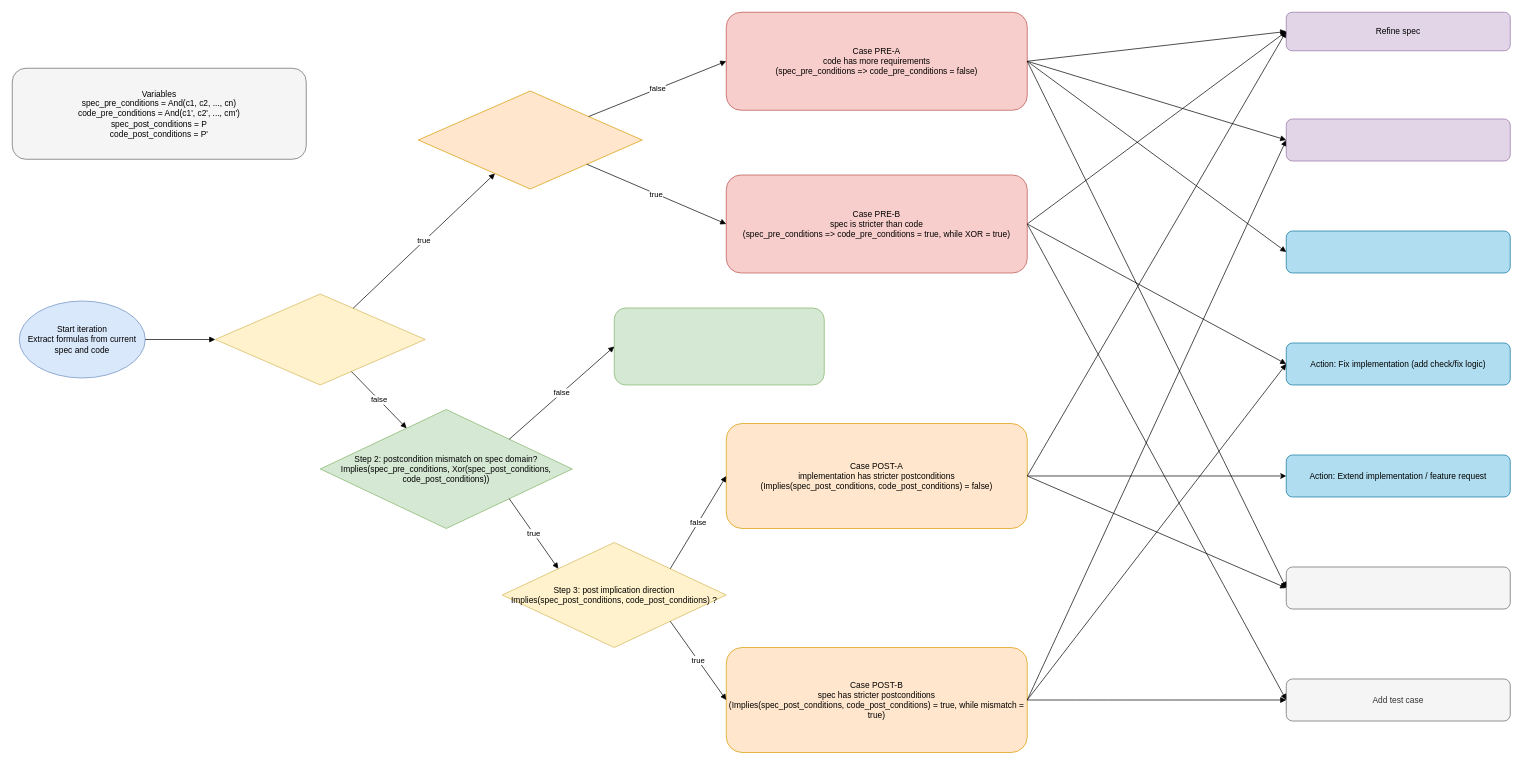
Image size: 1523x765. Some labels were removed from this diagram. The centre of each missing label's shape, as x and y in pixels:
"Action: Relax constraints in implementation" goes at [1398,251].
"Add property to ignore list" goes at [1398,587].
"Equivalent on current iteration No mismatch found" goes at [719,346].
"Relax spec (maybe ignore)" goes at [1398,139].
"Step 1: precondition mismatch? Xor(spec_pre_conditions, code_pre_conditions)" goes at [320,339].
"Step 1a: implication direction spec_pre_conditions => code_pre_conditions ?" goes at [530,139].
